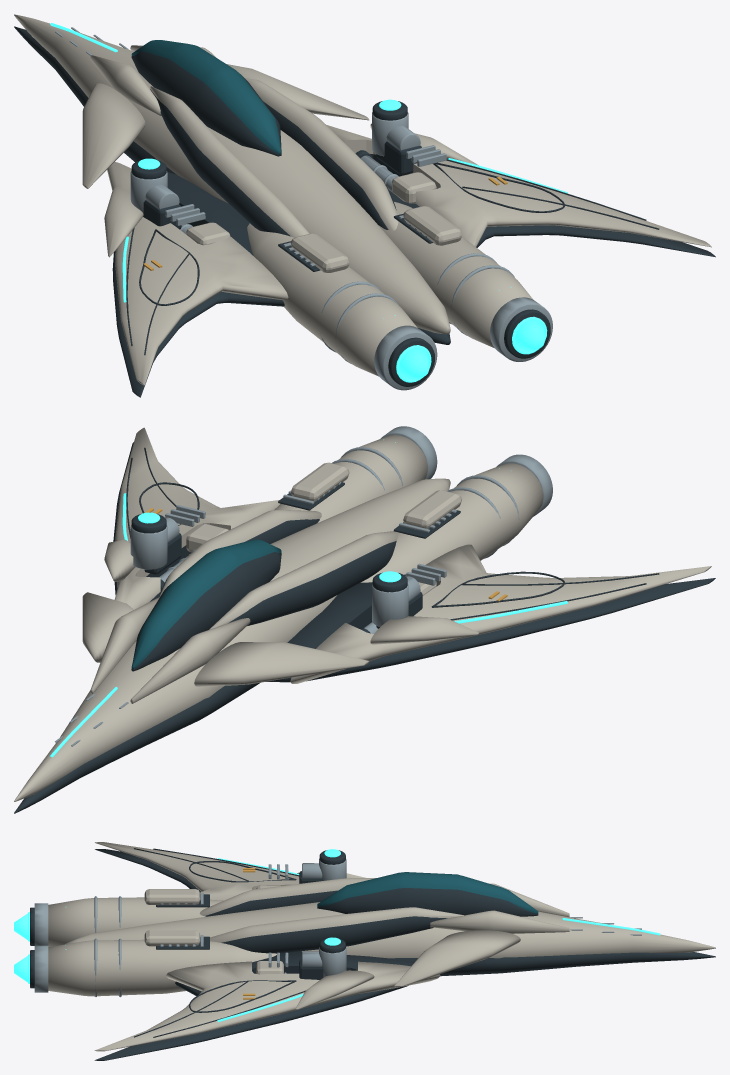
Rendered from assault-2.glb.
The picture shows the model from 3 angles, top to bottom: view 1: azimuth 30°, elevation 25°; view 2: azimuth 150°, elevation 25°; view 3: azimuth 270°, elevation 25°; orthographic projection. The views are drawn at different scales.
Parts seen in each view (by area): view 1: SM_Hull, SM_Wing_Left, SM_Wing_Right, SM_Engine_Left, SM_Engine_Right, SM_Stage03, SM_Stage04, SM_Stage01, SM_Stage02, SM_Weapon_Right, SM_Weapon_Left; view 2: SM_Hull, SM_Wing_Left, SM_Wing_Right, SM_Engine_Left, SM_Engine_Right, SM_Stage03, SM_Stage04, SM_Stage02, SM_Stage01, SM_Weapon_Right; view 3: SM_Hull, SM_Wing_Right, SM_Engine_Right, SM_Engine_Left, SM_Wing_Left, SM_Stage03, SM_Stage04, SM_Stage02, SM_Stage01.
Part boxes in pixels (x1,y1,x2,y2): SM_Hull: (14, 14, 450, 344); SM_Wing_Left: (82, 83, 288, 397); SM_Wing_Right: (226, 64, 715, 257); SM_Engine_Left: (247, 223, 437, 390); SM_Engine_Right: (379, 202, 552, 361); SM_Stage03: (165, 145, 461, 272); SM_Stage04: (130, 99, 408, 213); SM_Stage01: (143, 126, 421, 229); SM_Stage02: (104, 123, 478, 257); SM_Weapon_Right: (355, 150, 436, 203); SM_Weapon_Left: (180, 222, 230, 245); SM_Hull: (14, 478, 450, 813); SM_Wing_Left: (194, 544, 715, 686); SM_Wing_Right: (82, 427, 280, 662); SM_Engine_Left: (361, 454, 552, 582); SM_Engine_Right: (274, 426, 437, 522); SM_Stage03: (165, 462, 461, 585); SM_Stage04: (130, 512, 408, 626); SM_Stage02: (104, 539, 479, 644); SM_Stage01: (144, 517, 422, 628); SM_Weapon_Right: (159, 524, 228, 591); SM_Hull: (64, 872, 715, 976); SM_Wing_Right: (94, 930, 520, 1060); SM_Engine_Right: (14, 935, 276, 997); SM_Engine_Left: (14, 892, 223, 947); SM_Wing_Left: (95, 842, 299, 900); SM_Stage03: (144, 864, 288, 967); SM_Stage04: (319, 849, 346, 977); SM_Stage02: (295, 872, 374, 1009); SM_Stage01: (299, 863, 323, 979).
Size of the model in its own units: 7.16 by 1.58 by 10.08.
